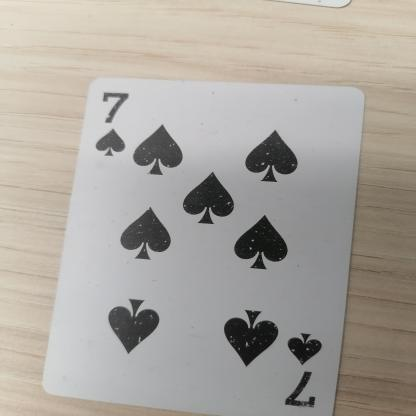7S: (273, 322, 343, 415), (80, 86, 144, 159)
